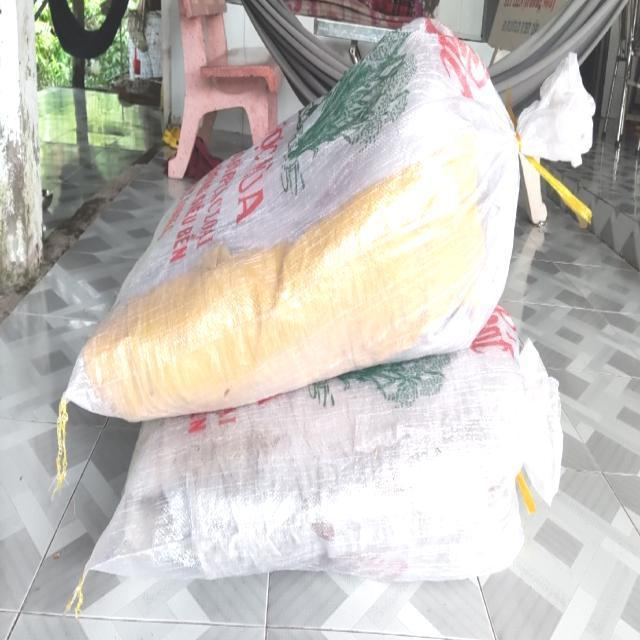gunny_bag: (64, 17, 593, 420), (73, 307, 563, 604)
